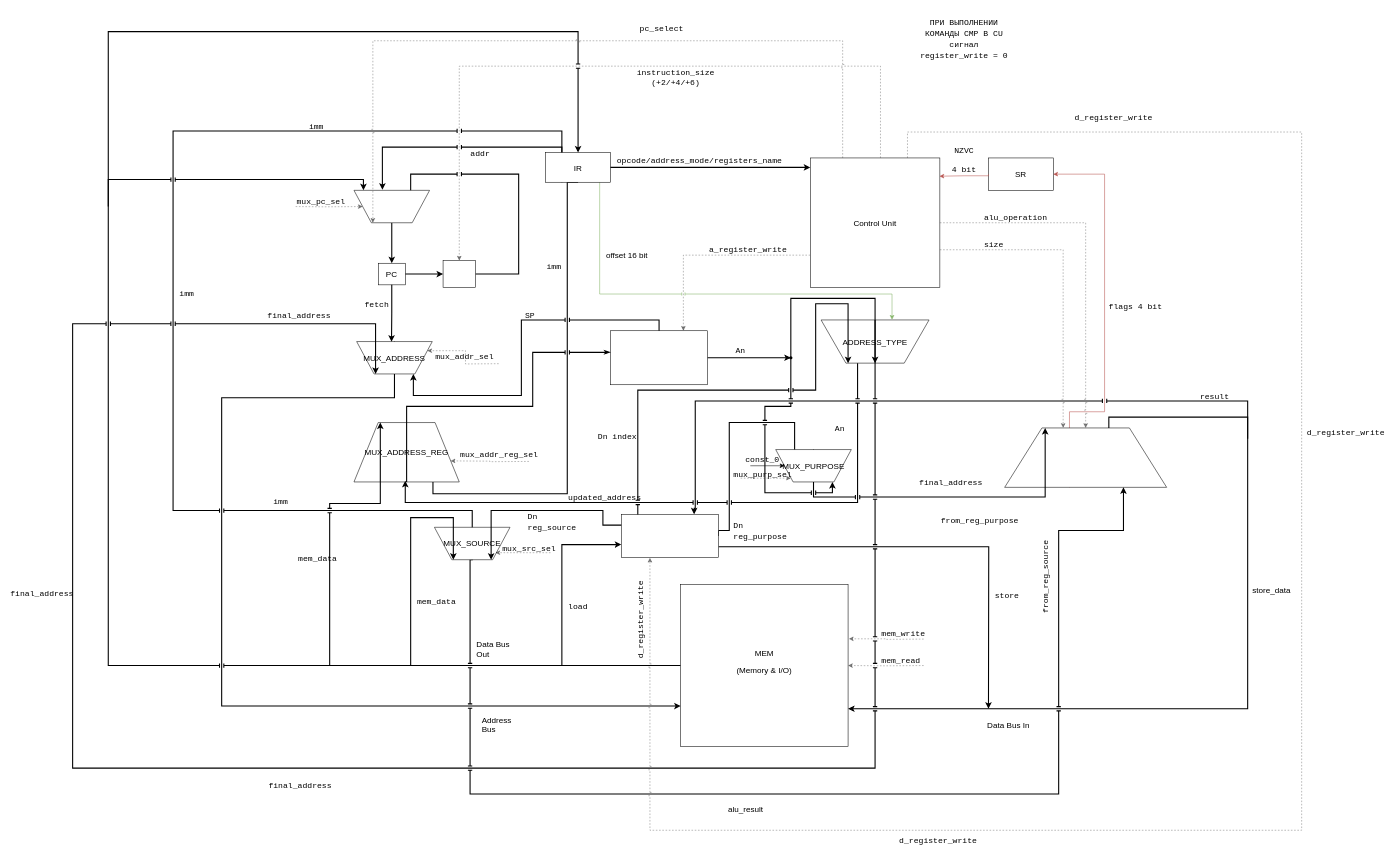
The diagram is 1394 pixels wide and 863 high, and some of its shapes have lost their labels. The shapes that lost their labels are listed below. From the top down, each one's centre as x and y in pixels, then its label:
the point at 391,206: MUX_PC
the point at 459,274: PC+N
the point at 659,357: Address Registers
the point at 1085,457: ALU
the point at 669,536: Data Registers
